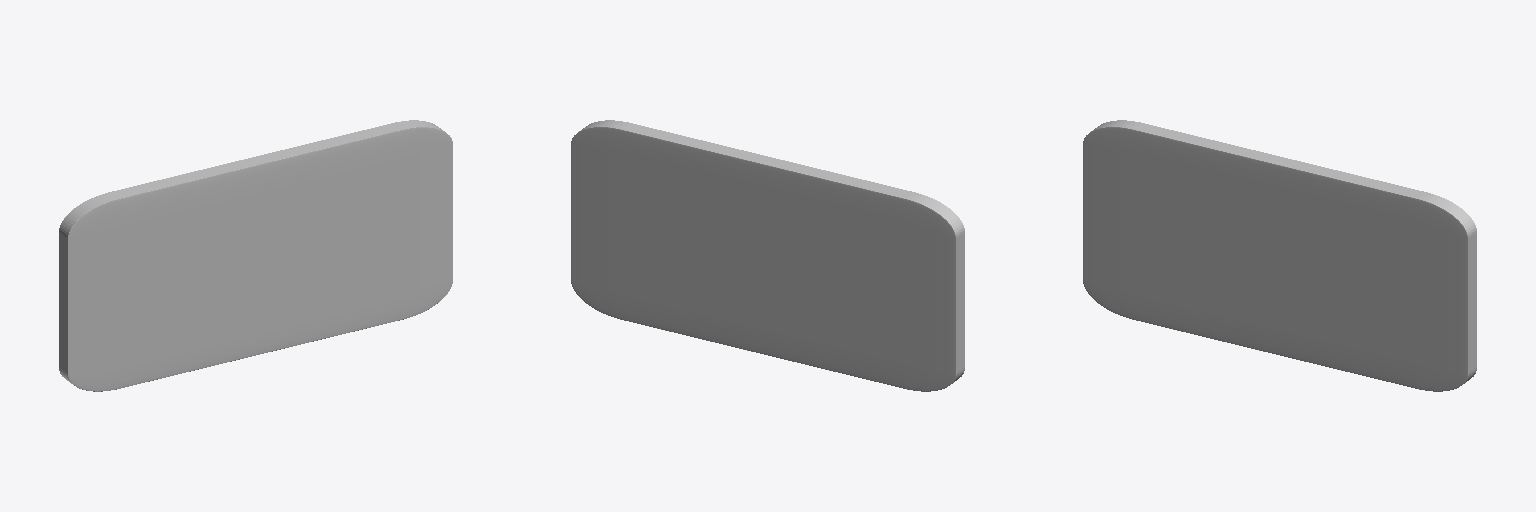
Rendered from ITOPETFilm.obj.
The picture shows the model from 3 angles: view 1: azimuth 30°, elevation 25°; view 2: azimuth 150°, elevation 25°; view 3: azimuth 330°, elevation 25°; orthographic projection.
Parts seen in each view (by area): view 1: Cube.003; view 2: Cube.003; view 3: Cube.003.
Boxes of the visible parts, x1=… form: Cube.003: x1=59, y1=120, x2=452, y2=391; Cube.003: x1=571, y1=120, x2=964, y2=391; Cube.003: x1=1083, y1=120, x2=1476, y2=391.
Size of the model in its own units: 6.79 by 3.21 by 0.3033.